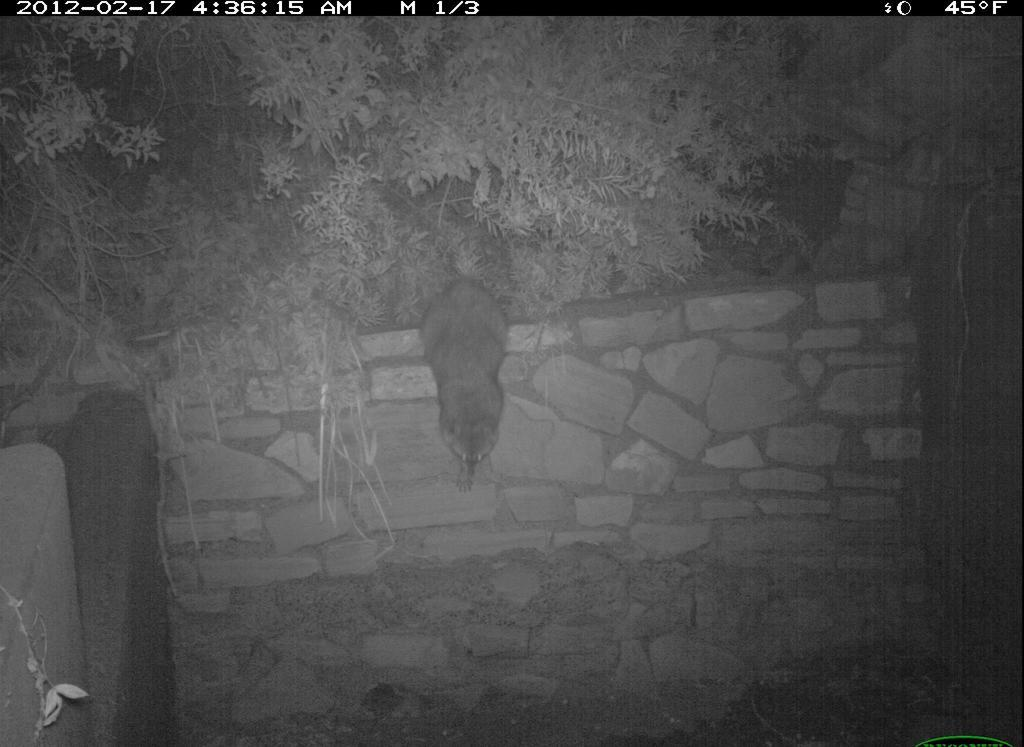raccoon: (410, 269, 524, 502)
